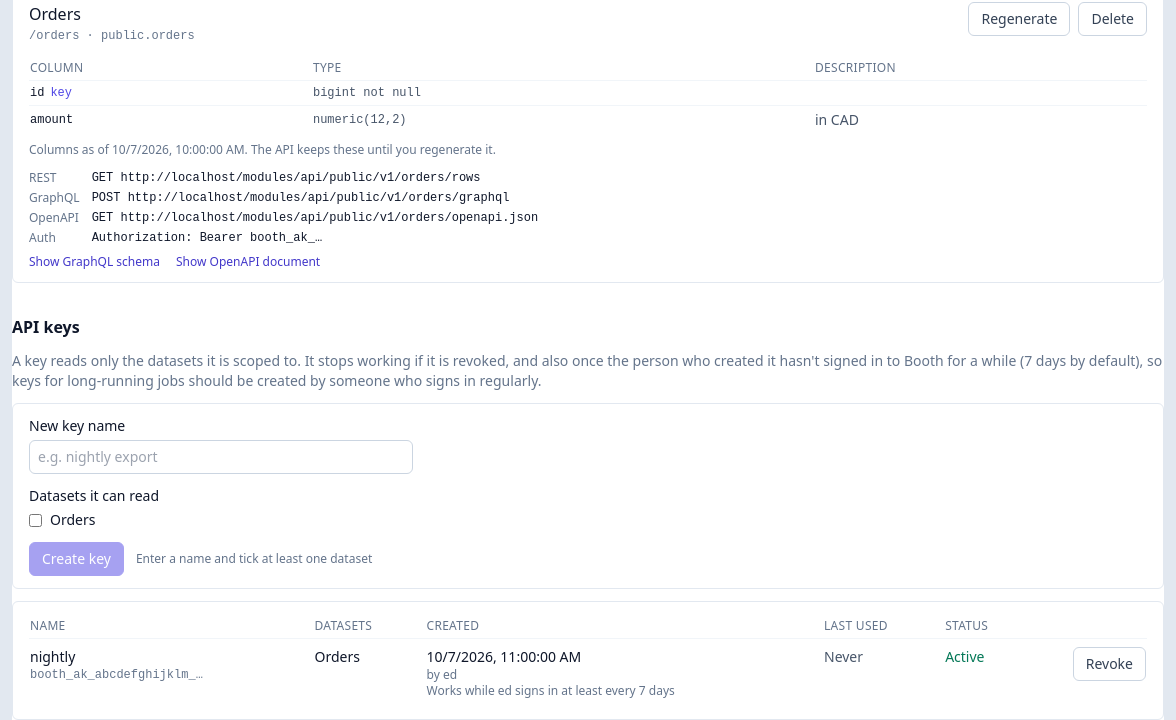
Scenario: ApiApp › revokes a key only after confirming
The image size is (1176, 720).
(page scrolled)
Click the button "Revoke".
click(1109, 664)  # box [1073,647,1146,681]
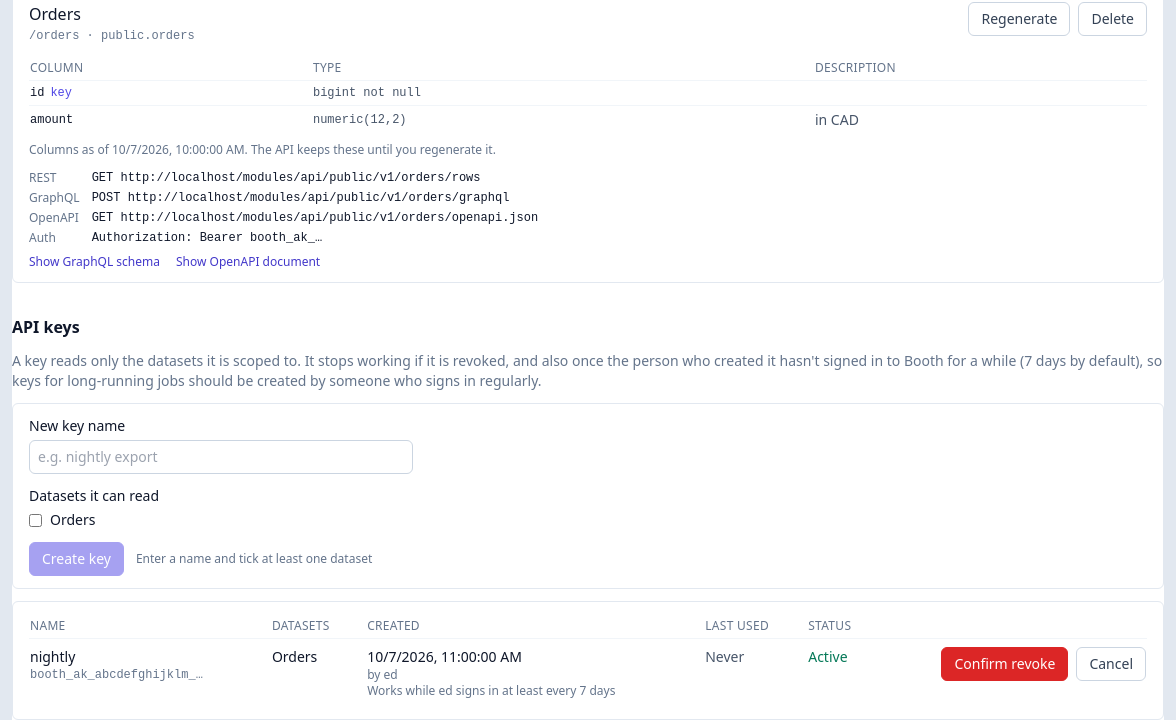
Click the button "Confirm revoke".
click(1005, 664)  # box [941,647,1068,681]
(page scrolled)
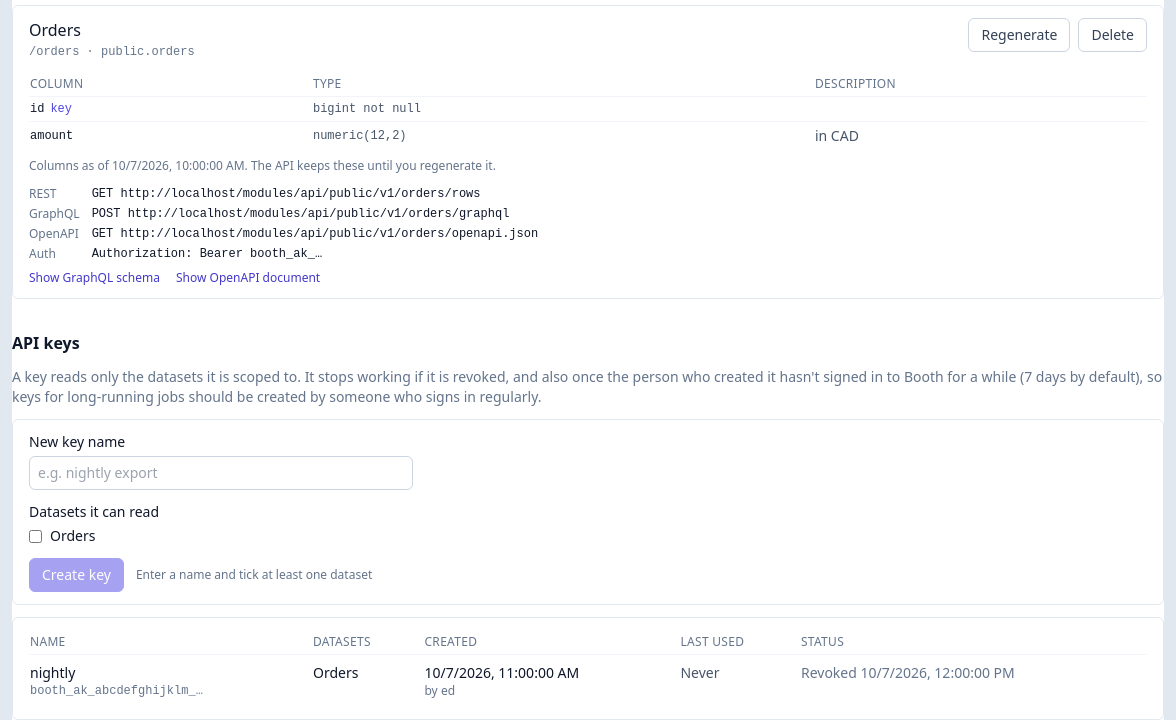
expect the text "Revoked 10/7/2026, 12:00:00 PM" is shown: met, box [801,663,1015,682]
